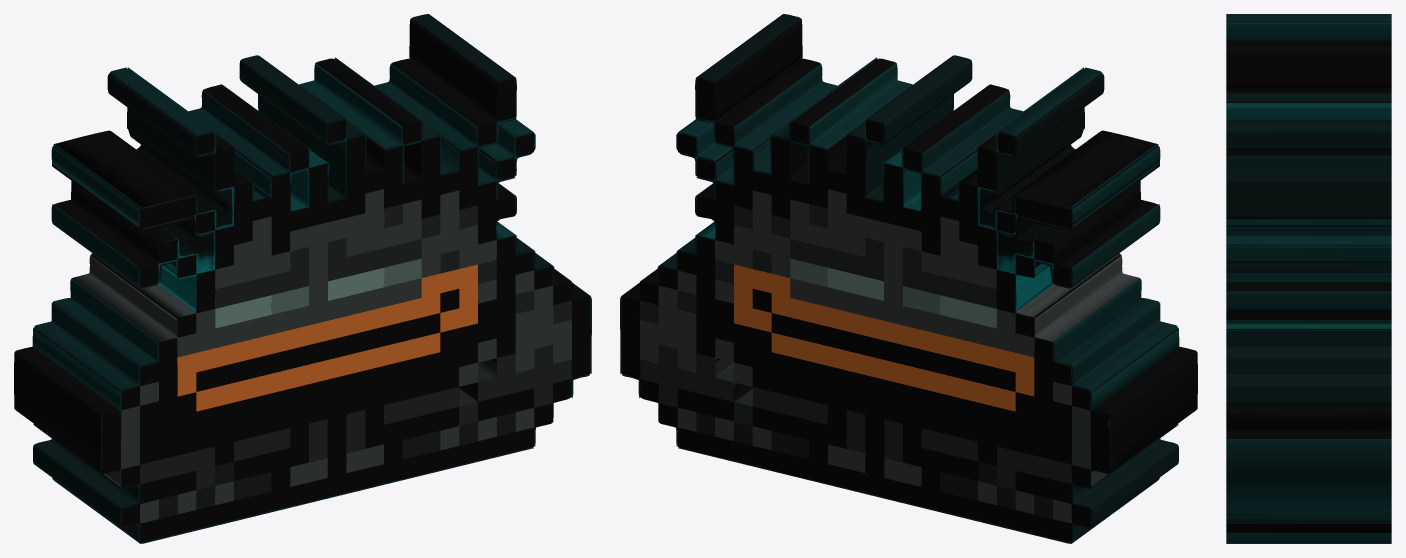
The model's file is Toadz_4470.glb.
3 renders of one model, left to right at view 1: azimuth 30°, elevation 25°; view 2: azimuth 150°, elevation 25°; view 3: azimuth 270°, elevation 25°, orthographic. The views are drawn at different scales.
Parts seen in each view (by area): view 1: Curve; view 2: Curve; view 3: Curve.
Boxes of the visible parts, box(x1,y1,x2,y2) form: Curve: box(14, 14, 591, 543); Curve: box(620, 14, 1197, 543); Curve: box(1226, 14, 1391, 543).
Size of the model in its own units: 3.25 by 2.5 by 1.
